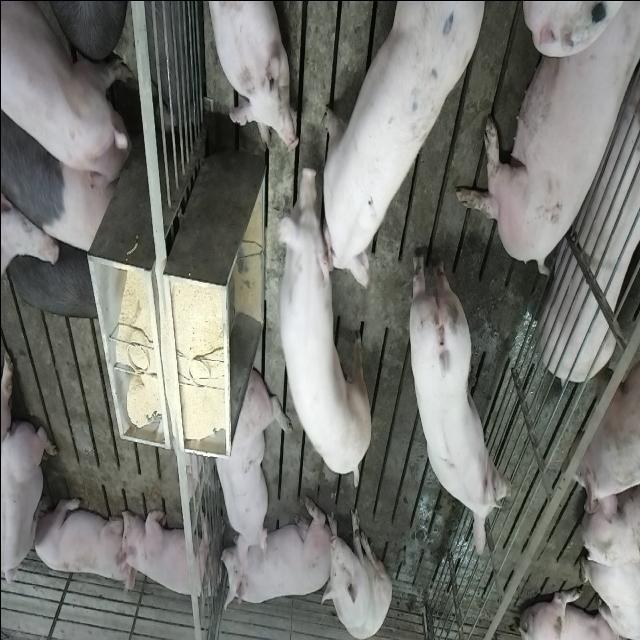Lateral_lying: (452, 0, 636, 273), (537, 61, 640, 382)
Sitting: (322, 504, 392, 638)
Standing: (316, 5, 486, 289), (408, 241, 512, 555), (274, 192, 372, 490), (2, 0, 134, 192), (560, 271, 640, 520), (2, 90, 118, 258), (6, 238, 106, 323)
Sternal_lying: (203, 0, 294, 151), (210, 366, 280, 556), (218, 506, 328, 612), (116, 502, 215, 602), (2, 416, 56, 597), (31, 491, 130, 588)
